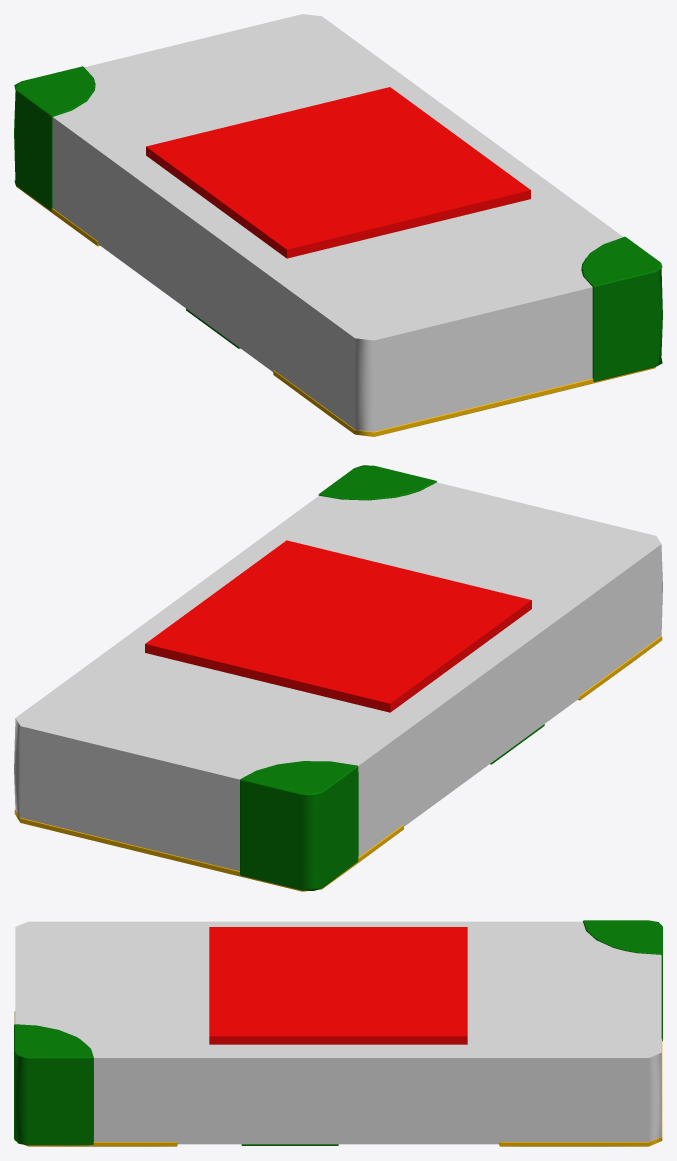
File: LED0402-RED.glb
The picture shows the model from 3 angles, top to bottom: view 1: azimuth 30°, elevation 25°; view 2: azimuth 150°, elevation 25°; view 3: azimuth 270°, elevation 25°; orthographic projection. The views are drawn at different scales.
Visible parts, largest first — view 1: =>[0:1:1:3]; view 2: =>[0:1:1:3]; view 3: =>[0:1:1:3].
Part boxes in pixels (left/top/right/bottom): =>[0:1:1:3]: left=14, top=14, right=662, bottom=436; =>[0:1:1:3]: left=14, top=465, right=662, bottom=891; =>[0:1:1:3]: left=14, top=920, right=662, bottom=1146.
Bounding box in the file's own units: 0.000504 × 0.000165 × 0.001.
